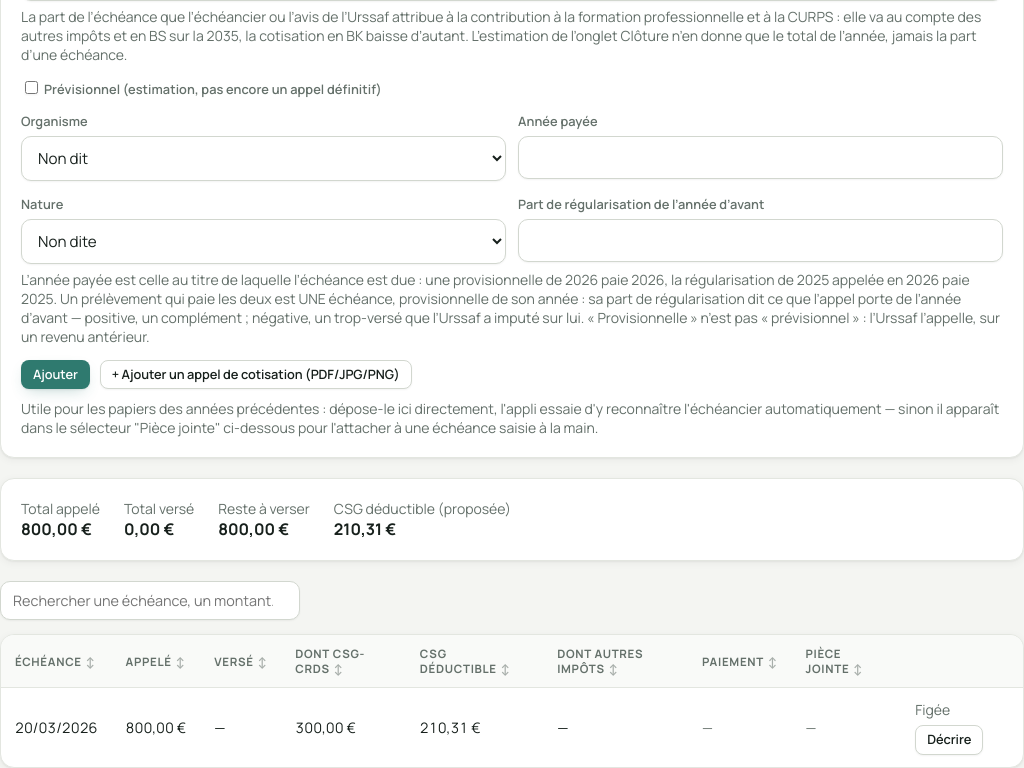
CotisationsTab — décrire une échéance figée › offre « Décrire », ne laisse changer que la description, écrit en retenant la version lue
This screenshot has width=1024, height=768.
(page scrolled)
Check: the text "Figée" is shown, box [915, 700, 950, 719]
Click the button "Décrire" at (949,740), box [915, 725, 983, 755]
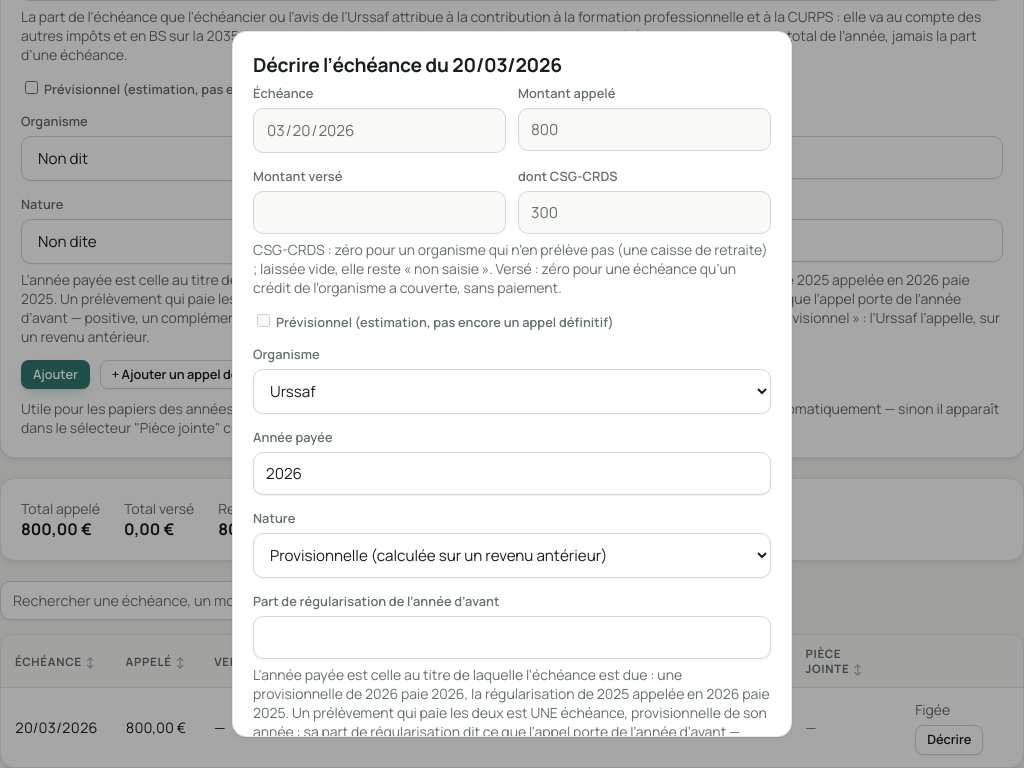
Check: the heading reads "Décrire l’échéance du 20/03/2026", box [253, 52, 562, 78]
Check: the date field labelled "Échéance" is disabled, box [253, 108, 506, 153]
Check: the number field labelled "Montant appelé" is disabled, box [518, 108, 771, 151]
Replace the text in the field labelled "Année payée" with "2025" at (512,473), box [253, 452, 771, 495]
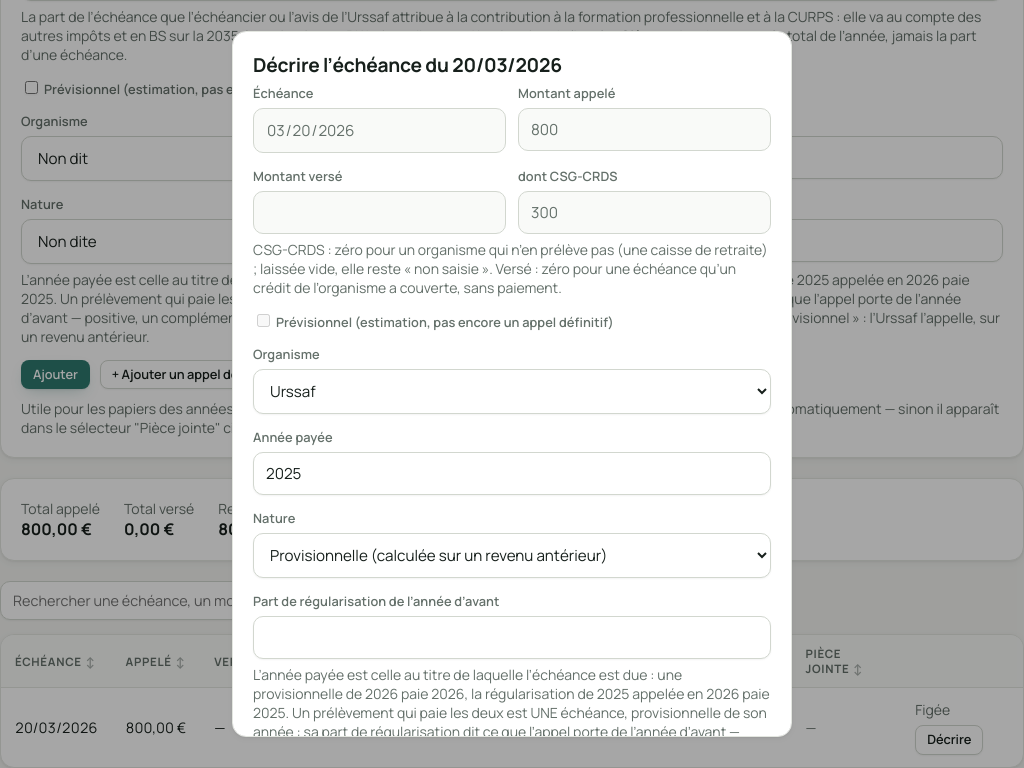
Select "Régularisation (sur le revenu réel de son année)" in the dropdown labelled "Nature" at (512,555), box [253, 533, 771, 578]
(page scrolled)
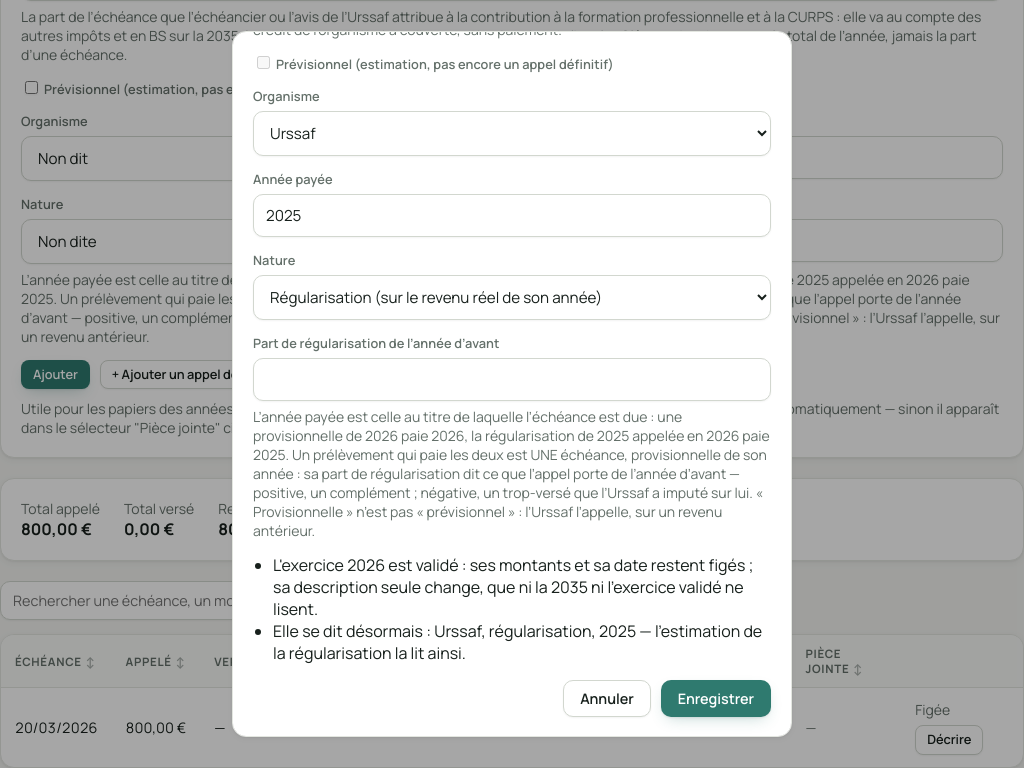
Click the button "Enregistrer" at (716,698), box [661, 680, 771, 717]
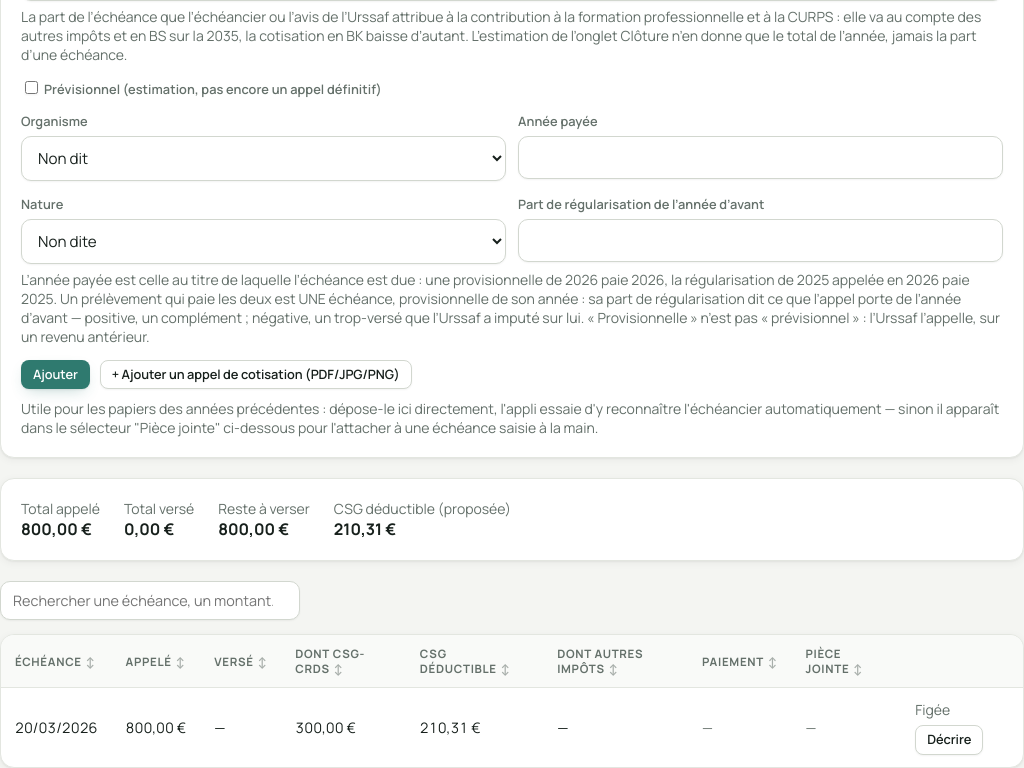
Check: the dialog is gone
